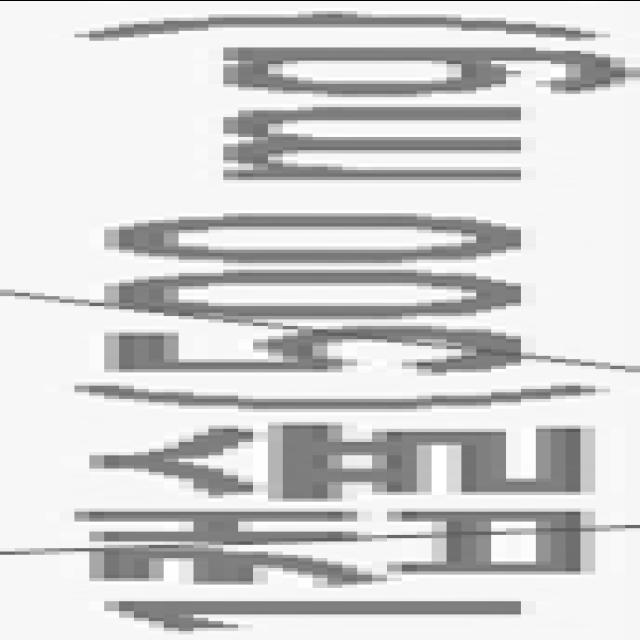normal: (60, 10, 640, 634)
